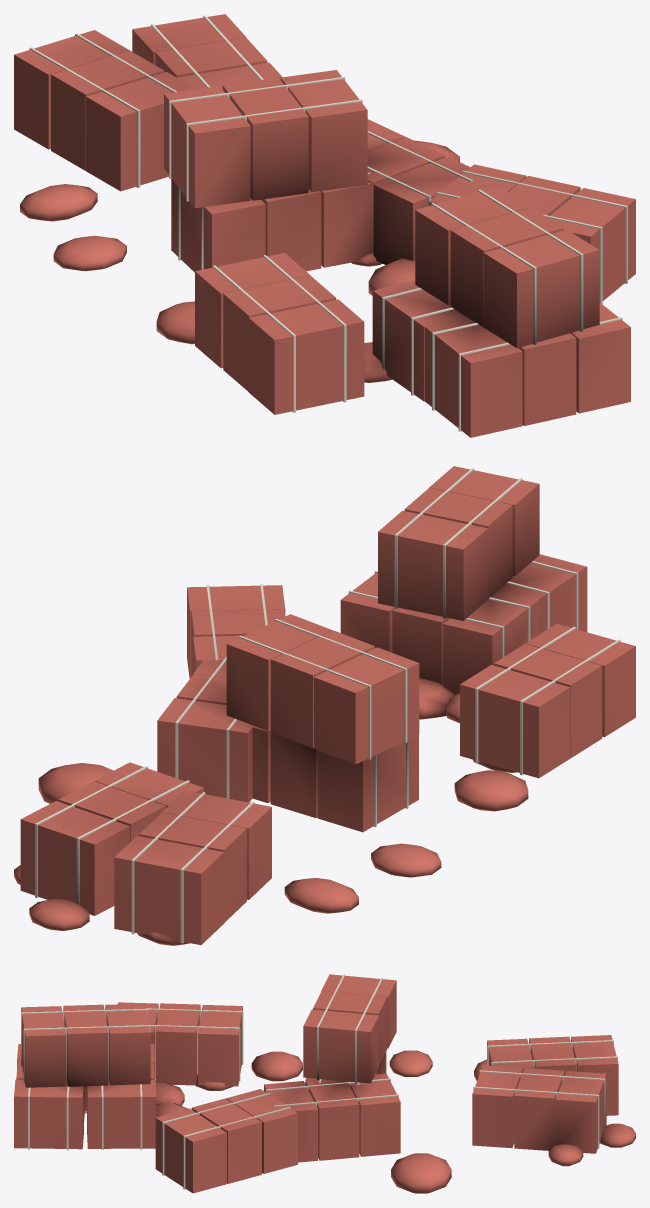
File: hays.glb
3 renders of one model, top to bottom at view 1: azimuth 30°, elevation 25°; view 2: azimuth 150°, elevation 25°; view 3: azimuth 270°, elevation 25°, orthographic. The views are drawn at different scales.
Parts seen in each view (by area): view 1: PART; view 2: PART; view 3: PART.
Boxes of the visible parts, x1,y1,x2,y2 form: PART: (14, 14, 635, 437); PART: (14, 466, 635, 945); PART: (14, 974, 635, 1193).
Bounding box in the file's own units: 3.79 × 1.49 × 7.06.
